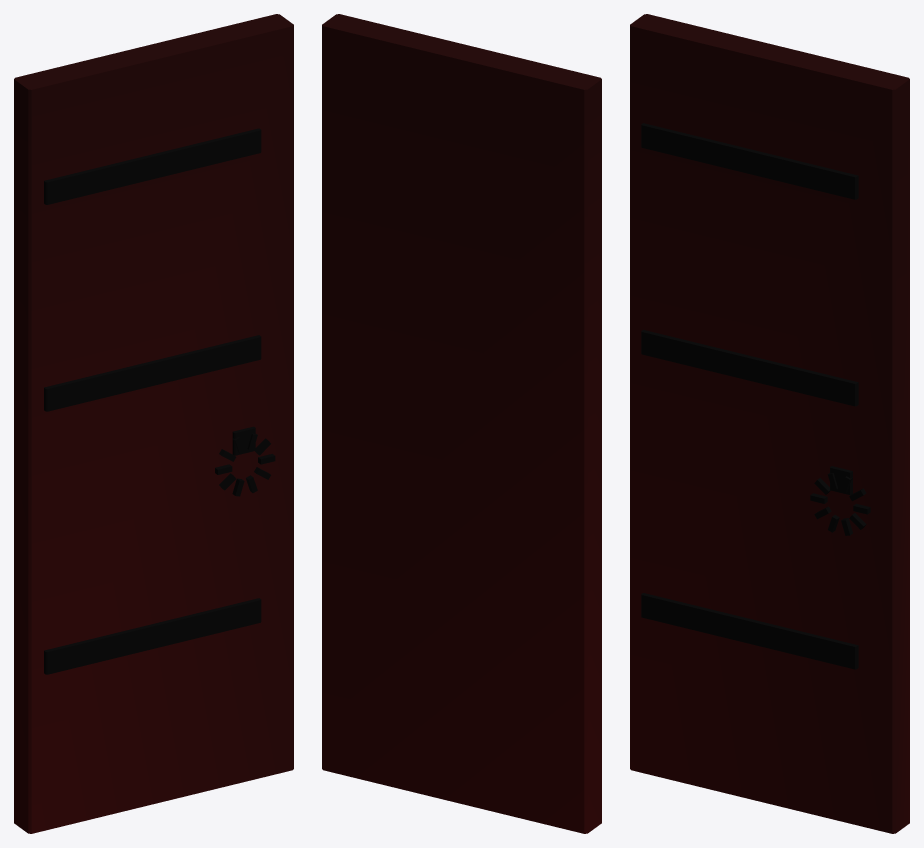
The model's file is SilverbrookNorthridgeHouse5_Door1.fbx.
3 renders of one model, left to right at view 1: azimuth 30°, elevation 25°; view 2: azimuth 150°, elevation 25°; view 3: azimuth 330°, elevation 25°, orthographic.
Visible parts, largest first — view 1: SM_SBNorthridgeHouse5_Door1_Part; view 2: SM_SBNorthridgeHouse5_Door1_Part; view 3: SM_SBNorthridgeHouse5_Door1_Part.
Boxes of the visible parts, <box> form: SM_SBNorthridgeHouse5_Door1_Part: <box>14,14,293,833</box>; SM_SBNorthridgeHouse5_Door1_Part: <box>322,14,601,833</box>; SM_SBNorthridgeHouse5_Door1_Part: <box>630,14,909,833</box>.
Bounding box in the file's own units: 74 × 198 × 9.7.
